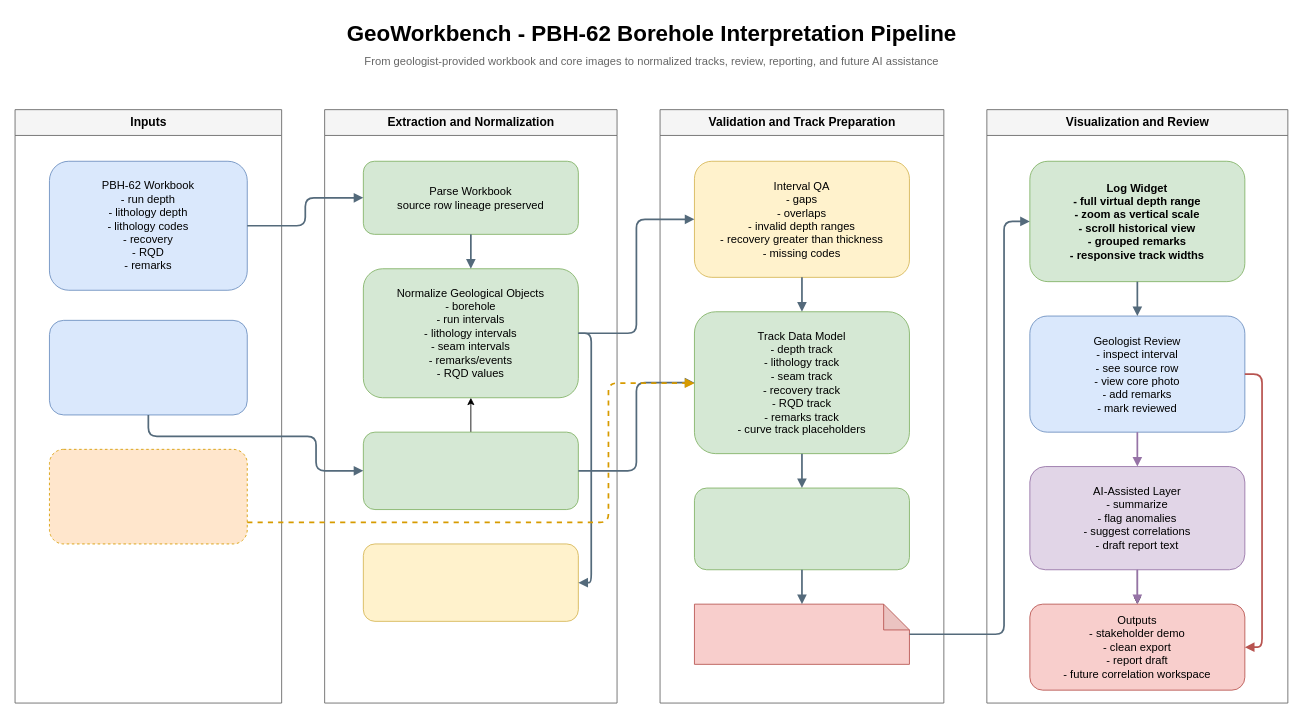
Image size: 1303x718. Some labels were removed from this diagram. Each missing label, with the centre of its shape:
"Core Box Photos 141 image files visual evidence for intervals" belongs at (x=148, y=367).
"Future Inputs - LAS curves - CoalLog / AGS - operational feeds" belongs at (x=148, y=496).
"Lithology Dictionary map codes to labels, colors, patterns" belongs at (x=470, y=582).
"Prototype Dataset pbh-62-normalized.json/js" belongs at (x=801, y=633).
"Register Images box/photo references linked to intervals" belongs at (x=470, y=470).
"Track Configuration visibility, width %, order, scale, labels" belongs at (x=801, y=528).
